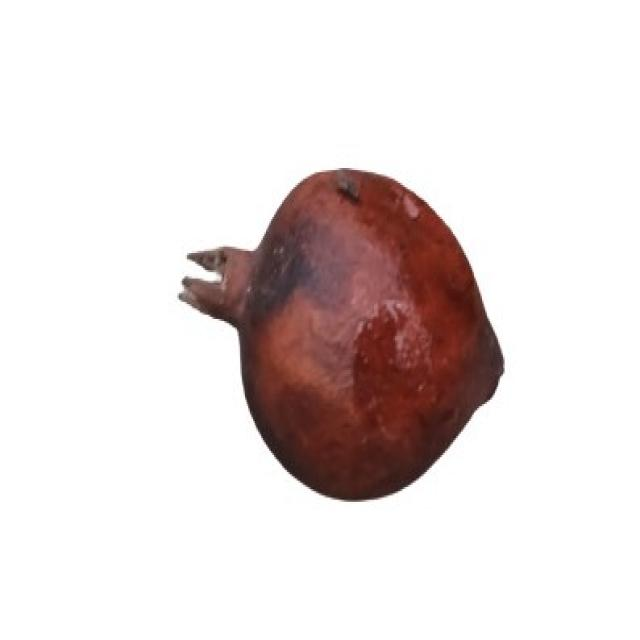Rotten: (177, 163, 508, 503)
